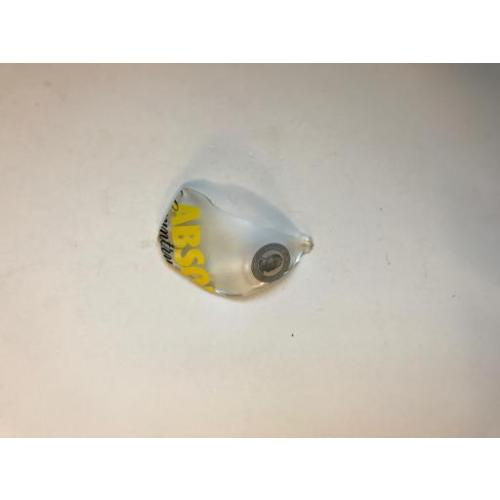glass: (170, 186, 309, 294)
